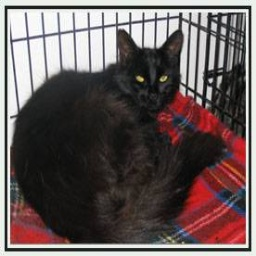cat: (16, 28, 219, 241)
